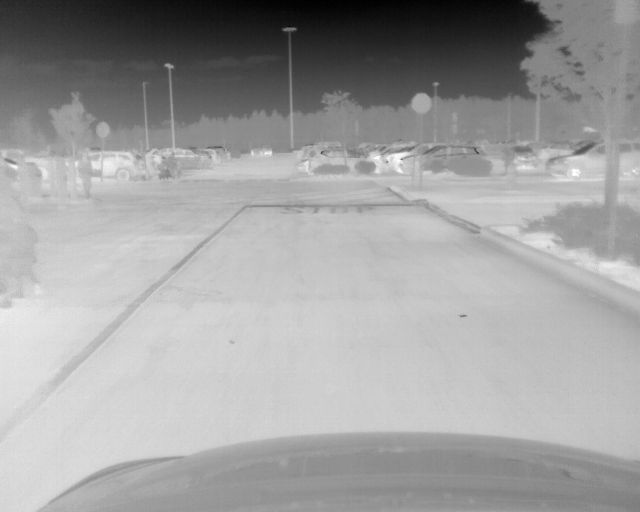car: (546, 141, 640, 179), (400, 144, 484, 174), (309, 149, 379, 173), (91, 150, 145, 180), (390, 143, 430, 169), (514, 144, 538, 167), (387, 145, 410, 164), (161, 146, 193, 155), (196, 149, 211, 166), (249, 145, 272, 155), (299, 156, 308, 172), (210, 148, 219, 163), (219, 148, 226, 163), (226, 147, 231, 161)
people: (1, 156, 45, 304), (16, 154, 32, 198), (78, 152, 93, 198), (57, 154, 69, 203), (501, 143, 518, 176), (67, 153, 77, 197), (46, 155, 56, 197), (160, 154, 168, 180), (170, 152, 177, 179), (176, 157, 183, 179)
